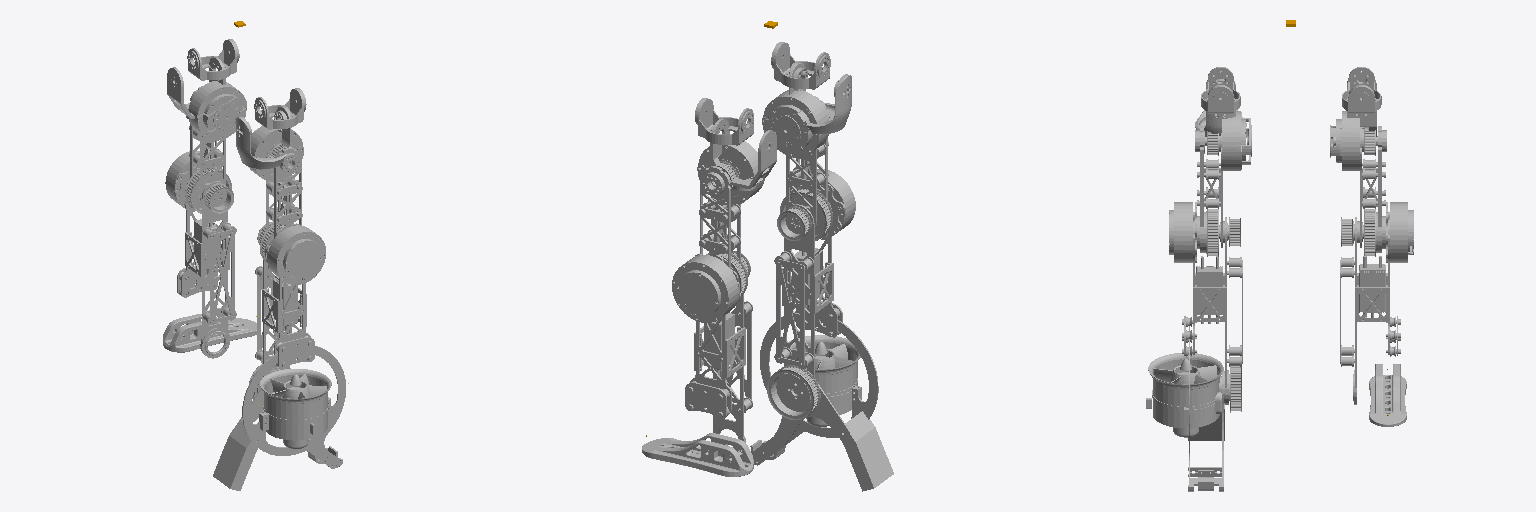
--- Facts derived from the render (not from the file) ---
3 views of the same robot in one strip: view 1: azimuth 30°, elevation 25°; view 2: azimuth 150°, elevation 25°; view 3: azimuth 270°, elevation 25° (orthographic).
Model legged_dm_description_no_arm with 17 links and 16 joints (10 revolute, 6 fixed), rooted at base_link, posed all joints at 0.
Links seen in each view (by area): view 1: leg_r5_link, leg_r4_link, leg_l4_link, leg_l3_link, leg_r3_link, leg_l5_link, leg_r2_link, leg_l1_link, leg_r1_link, leg_l2_link; view 2: leg_r5_link, leg_l4_link, leg_r4_link, leg_r3_link, leg_l3_link, leg_l5_link, leg_l1_link, leg_r1_link, leg_r2_link, leg_l2_link; view 3: leg_r5_link, leg_l4_link, leg_r4_link, leg_r3_link, leg_l3_link, leg_l5_link, leg_l1_link, leg_r1_link, leg_r2_link.
Boxes of the visible links, x1,y1,x2,y2 form: leg_r5_link: (213, 346, 345, 490); leg_r4_link: (255, 222, 325, 376); leg_l4_link: (165, 151, 236, 358); leg_l3_link: (175, 81, 246, 213); leg_r3_link: (249, 126, 303, 271); leg_l5_link: (163, 314, 256, 352); leg_r2_link: (236, 106, 290, 169); leg_l1_link: (187, 39, 239, 80); leg_r1_link: (254, 88, 306, 129); leg_l2_link: (167, 57, 225, 119); leg_r5_link: (750, 311, 893, 491); leg_l4_link: (672, 251, 752, 442); leg_r4_link: (774, 169, 855, 377); leg_r3_link: (762, 90, 844, 240); leg_l3_link: (695, 141, 764, 313); leg_l5_link: (642, 433, 753, 476); leg_l1_link: (695, 98, 753, 145); leg_r1_link: (771, 42, 830, 89); leg_r2_link: (789, 62, 851, 134); leg_l2_link: (710, 118, 776, 190); leg_r5_link: (1146, 326, 1241, 491); leg_l4_link: (1340, 202, 1413, 404); leg_r4_link: (1169, 202, 1242, 404); leg_r3_link: (1195, 111, 1251, 262); leg_l3_link: (1330, 111, 1387, 262); leg_l5_link: (1369, 364, 1406, 426); leg_l1_link: (1342, 67, 1381, 113); leg_r1_link: (1201, 67, 1240, 113); leg_r2_link: (1195, 71, 1246, 136).
Size in the robot's own frame: 0.2387 by 0.4257 by 0.7784 metres.
Meshes: 12 distinct files referenced, 10 mesh visuals loaded (10 binary STL); not drawn: 2 (reference not matched to a file when rendering).

The robot description file, URDF, robot "legged_dm_description_no_arm":
<?xml version="1.0" encoding="utf-8"?>
<!-- This URDF was automatically created by SolidWorks to URDF Exporter! Originally created by Stephen Brawner ([email redacted]) 
     Commit Version: 1.6.0-4-g7f85cfe  Build Version: 1.6.7995.38578
     For more information, please see http://wiki.ros.org/sw_urdf_exporter -->
<robot
  name="legged_dm_description_no_arm">
  
  
    <gazebo>
    <plugin name="gazebo_ros_control" filename="libdm_bipedal_hw_sim.so">
      <robotNamespace>/</robotNamespace>
      <robotParam>legged_robot_description</robotParam>
      <robotSimType>legged_gazebo/LeggedHWSim</robotSimType>
    </plugin>
  </gazebo>

  <gazebo>
    <plugin filename="libgazebo_ros_p3d.so" name="p3d_base_controller">
      <alwaysOn>true</alwaysOn>
      <updateRate>500.0</updateRate>
      <bodyName>base_link</bodyName>
      <topicName>ground_truth/state</topicName>
      <gaussianNoise>0</gaussianNoise>
      <frameName>world</frameName>
      <xyzOffsets>0 0 0</xyzOffsets>
      <rpyOffsets>0 0 0</rpyOffsets>
    </plugin>
  </gazebo>
  
  
     <joint name="imu_joint" type="fixed">
    <origin rpy="0. 0. 0." xyz="0. 0. 0"/>
    <parent link="base_link"/>
    <child link="imu_link"/>
  </joint>
  <!-- Imu link -->
  <link name="imu_link">
    <inertial>
      <mass value="0.01"/>
      <origin rpy="0 0 0" xyz="0 0 0"/>
      <inertia ixx="0.000001" ixy="0" ixz="0" iyy="0.000001" iyz="0" izz="0.000001"/>
    </inertial>
    <visual>
      <origin rpy="0 0 0" xyz="0 0 0"/>
      <geometry>
        <box size="0.015 0.015 0.004"/>
      </geometry>
    </visual>
    <material name="orange">
      <color rgba="255 108 10 255"/>
    </material>
  </link>
  <gazebo reference="imu_joint">
    <disableFixedJointLumping>true</disableFixedJointLumping>
  </gazebo>
  
  
  <link
    name="base_link">
    <inertial>
      <origin
        xyz="-0.0184065819818286 0.00877988976428151 0.0510806875972531"
        rpy="0 0 0" />
      <mass
        value="8.80159264 " />
      <inertia
        ixx="0.14775245"
        ixy="0.00171254"
        ixz="0.01822211"
        iyy="0.15431182"
        iyz="0.00278010"
        izz="0.18493669" />
    </inertial>
    <visual>
      <origin
        xyz="0 0 0"
        rpy="0 0 0" />
      <geometry>
        <mesh
          filename="package://legged_dm_description/meshes/base_link.STL" />
      </geometry>
      <material
        name="">
        <color
          rgba="0.752941176470588 0.752941176470588 0.752941176470588 1" />
      </material>
    </visual>
    <collision>
      <origin
        xyz="0.0045 0 0.0975"
        rpy="0 0 0" />
      <geometry>
        <box size="0.541 0.491 0.259" />
      </geometry>
    </collision>
  </link>
  
  
  <link
    name="loin_yaw_Link">
    <inertial>
      <origin
        xyz="-0.032699 -4.632E-05 -0.067781"
        rpy="0 0 0" />
      <mass
        value="1.65580951  " />
      <inertia
        ixx="0.01832622"
        ixy="0.00000010"
        ixz="0.00050635"
        iyy="0.00292395"
        iyz="-0.00000154"
        izz="0.01995461" />
    </inertial>
    <visual>
      <origin
        xyz="0 0 0"
        rpy="0 0 0" />
      <geometry>
        <mesh
          filename="package://legged_dm_description/meshes/loin_yaw_Link.STL" />
      </geometry>
      <material
        name="">
        <color
          rgba="0.75294 0.75294 0.75294 1" />
      </material>
    </visual>
    <collision>
      <origin
        xyz="-0.016403 0 -0.052"
        rpy="0 0 0" />
      <geometry>
        <box size="0.15375 0.304 0.104" />
      </geometry>
    </collision>
  </link>
  <joint
    name="loin_yaw_joint"
    type="fixed">
    <origin
      xyz="0.0047974 0.00016221 -0.032"
      rpy="0 0 0" />
    <parent
      link="base_link" />
    <child
      link="loin_yaw_Link" />
    <axis
      xyz="0 0 0" />
  </joint>
  
  
  <link
    name="leg_l1_link">
    <inertial>
      <origin
        xyz="0.0074236 3.4944E-14 -0.010847"
        rpy="0 0 0" />
      <mass
        value="0.08223546  " />
      <inertia
        ixx="0.00003751"
        ixy="0"
        ixz="0.00000662"
        iyy="0.00009398"
        iyz="0"
        izz="0.00009516" />
    </inertial>
    <visual>
      <origin
        xyz="0 0 0"
        rpy="0 0 0" />
      <geometry>
        <mesh
          filename="package://legged_dm_description/meshes/leg_l1_link.STL" />
      </geometry>
      <material
        name="">
        <color
          rgba="0.75294 0.75294 0.75294 1" />
      </material>
    </visual>
    <collision>
      <origin
        xyz="0 0 0"
        rpy="0 0 0" />
      <geometry>
        <box size="0.0001 0.0001 0.0001" />
      </geometry>
    </collision>
  </link>
  <joint
    name="leg_l1_joint"
    type="revolute">
    <origin
      xyz="0.0073473 0.112 -0.0755"
      rpy="0 0 0" />
    <parent
      link="loin_yaw_Link" />
    <child
      link="leg_l1_link" />
    <axis
      xyz="1 0 0" />
    <limit
      lower="-0.52"
      upper="0.785"
      effort="52"
      velocity="20" />
  </joint>
  
  
  <link
    name="leg_l2_link">
    <inertial>
      <origin
        xyz="5.2608E-05 0.036538 -0.048385"
        rpy="0 0 0" />
      <mass
        value="0.43655515  " />
      <inertia
        ixx="0.00059952"
        ixy="0.00000062"
        ixz="-0.00000010"
        iyy="0.00019349"
        iyz="-0.00014563"
        izz="0.00048350" />
    </inertial>
    <visual>
      <origin
        xyz="0 0 0"
        rpy="0 0 0" />
      <geometry>
        <mesh
          filename="package://legged_dm_description/meshes/leg_l2_link.STL" />
      </geometry>
      <material
        name="">
        <color
          rgba="0.75294 0.75294 0.75294 1" />
      </material>
    </visual>
    <collision>
      <origin
        xyz="0 0 0"
        rpy="0 0 0" />
      <geometry>
        <box size="0.0001 0.0001 0.0001" />
      </geometry>
    </collision>
  </link>
  <joint
    name="leg_l2_joint"
    type="revolute">
    <origin
      xyz="0 0 -0.03"
      rpy="0 0 0" />
    <parent
      link="leg_l1_link" />
    <child
      link="leg_l2_link" />
    <axis
      xyz="0 0 1" />
    <limit
      lower="-1.05"
      upper="1.05"
      effort="52"
      velocity="20" />
  </joint>
  
  
  <link
    name="leg_l3_link">
    <inertial>
      <origin
        xyz="2.6182999422638E-05 -0.00739138775448847 -0.0672622976762378"
        rpy="0 0 0" />
      <mass
        value="1.06377080  " />
      <inertia
        ixx="0.00585862"
        ixy="-0.00000112"
        ixz="0.00000759"
        iyy="0.00560481"
        iyz="-0.00121985"
        izz="0.00086513" />
    </inertial>
    <visual>
      <origin
        xyz="0 0 0"
        rpy="0 0 0" />
      <geometry>
        <mesh
          filename="package://legged_dm_description/meshes/leg_l3_link.STL" />
      </geometry>
      <material
        name="">
        <color
          rgba="0.752941176470588 0.752941176470588 0.752941176470588 1" />
      </material>
    </visual>
    <collision>
      <origin
        xyz="0 0 0"
        rpy="0 0 0" />
      <geometry>
        <box size="0.0001 0.0001 0.0001" />
      </geometry>
    </collision>
  </link>
  <joint
    name="leg_l3_joint"
    type="revolute">
    <origin
      xyz="0 0.01225 -0.062999"
      rpy="0 0 0" />
    <parent
      link="leg_l2_link" />
    <child
      link="leg_l3_link" />
    <axis
      xyz="0 1 0" />
    <limit
      lower="-0.52"
      upper="0.785"
      effort="52"
      velocity="20" />
  </joint>
  
  
  <link
    name="leg_l4_link">
    <inertial>
      <origin
        xyz="-0.00022241 0.013655 -0.079168"
        rpy="0 0 0" />
      <mass
        value="1.15073554  " />
      <inertia
        ixx="0.00837738"
        ixy="0.00000270"
        ixz="0.00000829"
        iyy="0.00759727"
        iyz="0.00134186"
        izz="0.00135982" />
    </inertial>
    <visual>
      <origin
        xyz="0 0 0"
        rpy="0 0 0" />
      <geometry>
        <mesh
          filename="package://legged_dm_description/meshes/leg_l4_link.STL" />
      </geometry>
      <material
        name="">
        <color
          rgba="0.75294 0.75294 0.75294 1" />
      </material>
    </visual>
    <collision>
      <origin 
	xyz="0 0.010775 -0.12575"
	rpy="0 0 0" />
      <geometry>
        <box size="0.096 0.11795 0.3475" />
      </geometry>
    </collision>
  </link>
  <joint
    name="leg_l4_joint"
    type="revolute">
    <origin
      xyz="0 0.001 -0.16"
      rpy="0 0 0" />
    <parent
      link="leg_l3_link" />
    <child
      link="leg_l4_link" />
    <axis
      xyz="0 1 0" />
    <limit
      lower="-0.3"
      upper="2.3562"
      effort="52"
      velocity="20" />
  </joint>
  
  
  <link
    name="leg_l5_link">
    <inertial>
      <origin
        xyz="-0.00349497624323486 -0.0226631671020062 -0.0399555274396122"
        rpy="0 0 0" />
      <mass
        value="0.94676044  " />
      <inertia
        ixx="0.00264085"
        ixy="0.00007192"
        ixz="0.00015760"
        iyy="0.00326986"
        iyz="0.00001047"
        izz="0.00252052" />
    </inertial>
    <visual>
      <origin
        xyz="0 0 0"
        rpy="0 0 0" />
      <geometry>
        <mesh
          filename="package://legged_dm_description/meshes/leg_l5_link.STL" />
      </geometry>
      <material
        name="">
        <color
          rgba="0.752941176470588 0.752941176470588 0.752941176470588 1" />
      </material>
    </visual>
     <collision>
      <origin
        xyz="-0.0122875 -0.026875 -0.0913"
        rpy="0 0 0" />
      <geometry>
        <box size="0.215425 0.05625 0.125" />
      </geometry>
    </collision>
  </link>
  <joint
    name="leg_l5_joint"
    type="revolute">
    <origin
      xyz="-0.0037585 0.03647 -0.26411"
      rpy="0 0 0" />
    <parent
      link="leg_l4_link" />
    <child
      link="leg_l5_link" />
    <axis
      xyz="0 1 0" />
    <limit
      lower="-1.047"
      upper="0.3"
      effort="52"
      velocity="20" />
  </joint>
  
  
  
  <joint name="leg_l5_fixed_1" type="fixed">
    <origin xyz="0.113 -0.008 -0.006" rpy="0 0 0" />
    <parent link="leg_l5_link" />
    <child link="leg_l_f1_link" />
  </joint>
  <link name="leg_l_f1_link">
    <inertial>
      <mass value="0.01" />
      <inertia ixx="0.000001" ixy="0" ixz="0" iyy="0.000001" iyz="0" izz="0.000001" />
    </inertial>
    <visual>
      <origin rpy="0 0 0" xyz="0 0 0"/>
      <geometry>
        <sphere radius="0.001"/>
      </geometry>
    </visual>
    <collision>
      <origin rpy="0 0 0" xyz="0 0 0"/>
      <geometry>
        <sphere radius="0.001"/>
      </geometry>
    </collision>
  </link>

  <joint name="leg_l5_fixed_2" type="fixed">
    <origin xyz="-0.061 -0.008 -0.006" rpy="0 0 0" />
    <parent link="leg_l5_link" />
    <child link="leg_l_f2_link" />
  </joint>
  <link name="leg_l_f2_link">
    <inertial>
      <mass value="0.01" />
      <inertia ixx="0.000001" ixy="0" ixz="0" iyy="0.000001" iyz="0" izz="0.000001" />
    </inertial>
    <visual>
      <origin rpy="0 0 0" xyz="0 0 0"/>
      <geometry>
        <sphere radius="0.001"/>
      </geometry>
    </visual>
    <collision>
      <origin rpy="0 0 0" xyz="-0 0 0"/>
      <geometry>
        <sphere radius="0.001"/>
      </geometry>
    </collision>
  </link>

   <gazebo reference="leg_l1_link">
    <mu1>0.6</mu1>
    <mu2>0.6</mu2>
    <self_collide>1</self_collide>
  </gazebo>
  <gazebo reference="leg_l2_link">
    <mu1>0.6</mu1>
    <mu2>0.6</mu2>
    <self_collide>1</self_collide>
  </gazebo>
  <gazebo reference="leg_l3_link">
    <mu1>0.6</mu1>
    <mu2>0.6</mu2>
    <self_collide>1</self_collide>
  </gazebo>
  <gazebo reference="leg_l4_link">
    <mu1>0.6</mu1>
    <mu2>0.6</mu2>
    <self_collide>1</self_collide>
  </gazebo>
  <gazebo reference="leg_l5_link">
    <mu1>0.7</mu1>
    <mu2>0.7</mu2>
    <self_collide>1</self_collide>
    <kp value="1000000.0"/>
    <kd value="100.0"/>
    <maxVel>1.0</maxVel>
    <minDepth>0.00</minDepth>
  </gazebo>
  <gazebo reference="leg_l_f1_link">
    <mu1>1.5</mu1>
    <mu2>1.5</mu2>
    <self_collide>1</self_collide>
    <kp value="1000000.0"/>
    <kd value="100.0"/>
    <maxVel>1.0</maxVel>
    <minDepth>0.00</minDepth>
  </gazebo>
  <gazebo reference="leg_l_f2_link">
    <mu1>1.5</mu1>
    <mu2>1.5</mu2>
    <self_collide>1</self_collide>
    <kp value="1000000.0"/>
    <kd value="100.0"/>
    <maxVel>1.0</maxVel>
    <minDepth>0.00</minDepth>
  </gazebo>

  <transmission name="leg_l1_tran">
    <type>transmission_interface/SimpleTransmission</type>
    <joint name="leg_l1_joint">
      <hardwareInterface>hardware_interface/EffortJointInterface</hardwareInterface>
    </joint>
    <actuator name="leg_l1_motor">
      <hardwareInterface>hardware_interface/EffortJointInterface</hardwareInterface>
      <mechanicalReduction>1</mechanicalReduction>
    <maxVelocity>1.484</maxVelocity><!-- 85rpm -->
	  <maxEffort>36.0</maxEffort><!-- 36Nm -->
    </actuator>
  </transmission>

  <transmission name="leg_l2_tran">
    <type>transmission_interface/SimpleTransmission</type>
    <joint name="leg_l2_joint">
      <hardwareInterface>hardware_interface/EffortJointInterface</hardwareInterface>
    </joint>
    <actuator name="leg_l2_motor">
      <hardwareInterface>hardware_interface/EffortJointInterface</hardwareInterface>
      <mechanicalReduction>1</mechanicalReduction>
    <maxVelocity>2.6545</maxVelocity><!-- 160rpm -->
	  <maxEffort>94.0</maxEffort><!-- 94Nm -->
    </actuator>
  </transmission>

  <transmission name="leg_l3_tran">
    <type>transmission_interface/SimpleTransmission</type>
    <joint name="leg_l3_joint">
      <hardwareInterface>hardware_interface/EffortJointInterface</hardwareInterface>
    </joint>
    <actuator name="leg_l3_motor">
      <hardwareInterface>hardware_interface/EffortJointInterface</hardwareInterface>
      <mechanicalReduction>1</mechanicalReduction>
    <maxVelocity>2.6545</maxVelocity><!-- 160rpm -->
	  <maxEffort>94.0</maxEffort><!-- 94Nm -->
    </actuator>
  </transmission>

  <transmission name="leg_l4_tran">
    <type>transmission_interface/SimpleTransmission</type>
    <joint name="leg_l4_joint">
      <hardwareInterface>hardware_interface/EffortJointInterface</hardwareInterface>
    </joint>
    <actuator name="leg_l4_motor">
      <hardwareInterface>hardware_interface/EffortJointInterface</hardwareInterface>
      <mechanicalReduction>1</mechanicalReduction>
    <maxVelocity>1.484</maxVelocity><!-- 85rpm -->
	<maxEffort>36.0</maxEffort><!-- 36Nm -->
    </actuator>
  </transmission>

  <transmission name="leg_l5_tran">
    <type>transmission_interface/SimpleTransmission</type>
    <joint name="leg_l5_joint">
      <hardwareInterface>hardware_interface/EffortJointInterface</hardwareInterface>
    </joint>
    <actuator name="leg_l5_motor">
      <hardwareInterface>hardware_interface/EffortJointInterface</hardwareInterface>
      <mechanicalReduction>1</mechanicalReduction>
    </actuator>
  </transmission>





  
  <link
    name="leg_r1_link">
    <inertial>
      <origin
        xyz="0.0074236325652069 6.80011602582908E-16 -0.0108468454554058"
        rpy="0 0 0" />
      <mass
        value="0.08223546   " />
      <inertia
        ixx="0.00003751"
        ixy="0"
        ixz="0.00000662"
        iyy="0.00009398"
        iyz="0"
        izz="0.00009516" />
    </inertial>
    <visual>
      <origin
        xyz="0 0 0"
        rpy="0 0 0" />
      <geometry>
        <mesh
          filename="package://legged_dm_description/meshes/leg_r1_link.STL" />
      </geometry>
      <material
        name="">
        <color
          rgba="0.752941176470588 0.752941176470588 0.752941176470588 1" />
      </material>
    </visual>
    <collision>
      <origin
        xyz="0 0 0"
        rpy="0 0 0" />
      <geometry>
        <box size="0.0001 0.0001 0.0001" />
      </geometry>
    </collision>
  </link>
  <joint
    name="leg_r1_joint"
    type="revolute">
    <origin
      xyz="0.0073473 -0.112 -0.0755"
      rpy="0 0 0" />
    <parent
      link="loin_yaw_Link" />
    <child
      link="leg_r1_link" />
    <axis
      xyz="1 0 0" />
    <limit
      lower="-0.785"
      upper="0.52"
      effort="52"
      velocity="20" />
  </joint>
  
  
  <link
    name="leg_r2_link">
    <inertial>
      <origin
        xyz="-5.26075349589691E-05 -0.036537929402166 -0.0483849611379578"
        rpy="0 0 0" />
      <mass
        value="0.43655515  " />
      <inertia
        ixx="0.00059952"
        ixy="0.00000062"
        ixz="0.00000010"
        iyy="0.00019349"
        iyz="0.00014563"
        izz="0.00048350" />
    </inertial>
    <visual>
      <origin
        xyz="0 0 0"
        rpy="0 0 0" />
      <geometry>
        <mesh
          filename="package://legged_dm_description/meshes/leg_r2_link.STL" />
      </geometry>
      <material
        name="">
        <color
          rgba="0.752941176470588 0.752941176470588 0.752941176470588 1" />
      </material>
    </visual>
    <collision>
      <origin
        xyz="0 0 0"
        rpy="0 0 0" />
      <geometry>
        <box size="0.0001 0.0001 0.0001" />
      </geometry>
    </collision>
  </link>
  <joint
    name="leg_r2_joint"
    type="revolute">
    <origin
      xyz="0 0 -0.03"
      rpy="0 0 0" />
    <parent
      link="leg_r1_link" />
    <child
      link="leg_r2_link" />
    <axis
      xyz="0 0 1" />
    <limit
      lower="-1.05"
      upper="1.05"
      effort="52"
      velocity="20" />
  </joint>
  
  
  <link
    name="leg_r3_link">
    <inertial>
      <origin
        xyz="-2.61829986850266E-05 0.00739138775572923 -0.0672622976741981"
        rpy="0 0 0" />
      <mass
        value="1.06377080  " />
      <inertia
        ixx="0.00585862"
        ixy="-0.00000112"
        ixz="-0.00000759"
        iyy="0.00560481"
        iyz="0.00121985"
        izz="0.00086513" />
    </inertial>
    <visual>
      <origin
        xyz="0 0 0"
        rpy="0 0 0" />
      <geometry>
        <mesh
          filename="package://legged_dm_description/meshes/leg_r3_link.STL" />
      </geometry>
      <material
        name="">
        <color
          rgba="0.752941176470588 0.752941176470588 0.752941176470588 1" />
      </material>
    </visual>
    <collision>
      <origin
        xyz="0 0 0"
        rpy="0 0 0" />
      <geometry>
        <box size="0.0001 0.0001 0.0001" />
      </geometry>
    </collision>
  </link>
  <joint
    name="leg_r3_joint"
    type="revolute">
    <origin
      xyz="0 -0.01225 -0.062999"
      rpy="0 0 0" />
    <parent
      link="leg_r2_link" />
    <child
      link="leg_r3_link" />
    <axis
      xyz="0 1 0" />
    <limit
      lower="-0.785"
      upper="0.52"
      effort="52"
      velocity="20" />
  </joint>
  
  
  <link
    name="leg_r4_link">
    <inertial>
      <origin
        xyz="0.000222411737605985 -0.0136554135665731 -0.0791679110236052"
        rpy="0 0 0" />
      <mass
        value="1.15073554  " />
      <inertia
        ixx="0.00837738"
        ixy="0.00000270"
        ixz="-0.00000829"
        iyy="0.00759727"
        iyz="-0.00134186"
        izz="0.00135982" />
    </inertial>
    <visual>
      <origin
        xyz="0 0 0"
        rpy="0 0 0" />
      <geometry>
        <mesh
          filename="package://legged_dm_description/meshes/leg_r4_link.STL" />
      </geometry>
      <material
        name="">
        <color
          rgba="0.752941176470588 0.752941176470588 0.752941176470588 1" />
      </material>
    </visual>
    <collision>
      <origin
	    xyz="0 -0.010775 -0.12575"
	    rpy="0 0 0" />
      <geometry>
        <box size="0.096 0.11795 0.3475" />
      </geometry>
    </collision>
  </link>
  <joint
    name="leg_r4_joint"
    type="revolute">
    <origin
      xyz="0 -0.001 -0.16"
      rpy="0 0 0" />
    <parent
      link="leg_r3_link" />
    <child
      link="leg_r4_link" />
    <axis
      xyz="0 1 0" />
    <limit
      lower="-0.3"
      upper="2.3562"
      effort="52"
      velocity="20" />
  </joint>
  
  
  <link
    name="leg_r5_link">
    <inertial>
      <origin
        xyz="-0.00347717419516151 0.0226631670917011 -0.0399254519866233"
        rpy="0 0 0" />
      <mass
        value="0.94676044  " />
      <inertia
        ixx="0.00263623"
        ixy="-0.00007177"
        ixz="0.00015829"
        iyy="0.00326742"
        iyz="-0.00001022"
        izz="0.00252270" />
    </inertial>
    <visual>
      <origin
        xyz="0 0 0"
        rpy="0 0 0" />
      <geometry>
        <mesh
          filename="package://legged_dm_description/meshes/leg_r5_link.STL" />
      </geometry>
      <material
        name="">
        <color
          rgba="0.752941176470588 0.752941176470588 0.752941176470588 1" />
      </material>
    </visual>
    <collision>
      <origin
        xyz="-0.0122875 0.026875 -0.0913"
        rpy="0 0 0" />
      <geometry>
        <box size="0.215425 0.05625 0.125" />
      </geometry>
    </collision>
  </link>
  <joint
    name="leg_r5_joint"
    type="revolute">
    <origin
      xyz="-0.0037585 -0.03647 -0.26411"
      rpy="0 0 0" />
    <parent
      link="leg_r4_link" />
    <child
      link="leg_r5_link" />
    <axis
      xyz="0 1 0" />
    <limit
      lower="-1.047"
      upper="0.3"
      effort="52"
      velocity="20" />
  </joint>
  
  
  <joint name="leg_r5_fixed_1" type="fixed">
    <origin xyz="0.113 0.008 -0.006" rpy="0 0 0" />
    <parent link="leg_r5_link" />
    <child link="leg_r_f1_link" />
  </joint>
  <link name="leg_r_f1_link">
    <inertial>
      <mass value="0.01" />
      <inertia ixx="0.000001" ixy="0" ixz="0" iyy="0.000001" iyz="0" izz="0.000001" />
    </inertial>
    <visual>
      <origin rpy="0 0 0" xyz="0 0 0"/>
      <geometry>
        <sphere radius="0.001"/>
      </geometry>
    </visual>
    <collision>
      <origin rpy="0 0 0" xyz="0 0 0"/>
      <geometry>
        <sphere radius="0.001"/>
      </geometry>
    </collision>
  </link>

  <joint name="leg_r5_fixed_2" type="fixed">
    <origin xyz="-0.061 0.008 -0.006" rpy="0 0 0" />
    <parent link="leg_r5_link" />
    <child link="leg_r_f2_link" />
  </joint>
  <link name="leg_r_f2_link">
    <inertial>
      <mass value="0.01" />
      <inertia ixx="0.000001" ixy="0" ixz="0" iyy="0.000001" iyz="0" izz="0.000001" />
    </inertial>
    <visual>
      <origin rpy="0 0 0" xyz="0 0 0"/>
      <geometry>
        <sphere radius="0.001"/>
      </geometry>
    </visual>
    <collision>
      <origin rpy="0 0 0" xyz="0 0 0"/>
      <geometry>
        <sphere radius="0.001"/>
      </geometry>
    </collision>
  </link>

  
  
    <gazebo reference="leg_r1_link">
    <mu1>0.6</mu1>
    <mu2>0.6</mu2>
    <self_collide>1</self_collide>
  </gazebo>
  <gazebo reference="leg_r2_link">
    <mu1>0.6</mu1>
    <mu2>0.6</mu2>
    <self_collide>1</self_collide>
  </gazebo>
  <gazebo reference="leg_r3_link">
    <mu1>0.6</mu1>
    <mu2>0.6</mu2>
    <self_collide>1</self_collide>
  </gazebo>
  <gazebo reference="leg_r4_link">
    <mu1>0.6</mu1>
    <mu2>0.6</mu2>
    <self_collide>1</self_collide>
  </gazebo>
  <gazebo reference="leg_r5_link">
    <mu1>0.7</mu1>
    <mu2>0.7</mu2>
    <self_collide>1</self_collide>
    <kp value="1000000.0"/>
    <kd value="100.0"/>
    <maxVel>1.0</maxVel>
    <minDepth>0.00</minDepth>
  </gazebo>
  <gazebo reference="leg_r_f1_link">
    <mu1>1.5</mu1>
    <mu2>1.5</mu2>
    <self_collide>1</self_collide>
    <kp value="1000000.0"/>
    <kd value="100.0"/>
    <maxVel>1.0</maxVel>
    <minDepth>0.00</minDepth>
  </gazebo>
  <gazebo reference="leg_r_f2_link">
    <mu1>1.5</mu1>
    <mu2>1.5</mu2>
    <self_collide>1</self_collide>
    <kp value="1000000.0"/>
    <kd value="100.0"/>
    <maxVel>1.0</maxVel>
    <minDepth>0.00</minDepth>
  </gazebo>

  <transmission name="leg_r1_tran">
    <type>transmission_interface/SimpleTransmission</type>
    <joint name="leg_r1_joint">
      <hardwareInterface>hardware_interface/EffortJointInterface</hardwareInterface>
    </joint>
    <actuator name="leg_r1_motor">
      <hardwareInterface>hardware_interface/EffortJointInterface</hardwareInterface>
      <mechanicalReduction>1</mechanicalReduction>
      	  <maxVelocity>1.484</maxVelocity><!-- 85rpm -->
	<maxEffort>36.0</maxEffort><!-- 36Nm -->
    </actuator>
  </transmission>

  <transmission name="leg_r2_tran">
    <type>transmission_interface/SimpleTransmission</type>
    <joint name="leg_r2_joint">
      <hardwareInterface>hardware_interface/EffortJointInterface</hardwareInterface>
    </joint>
    <actuator name="leg_r2_motor">
      <hardwareInterface>hardware_interface/EffortJointInterface</hardwareInterface>
      <mechanicalReduction>1</mechanicalReduction>
      	  <maxVelocity>2.6545</maxVelocity><!-- 160rpm -->
	  <maxEffort>94.0</maxEffort><!-- 94Nm -->
    </actuator>
  </transmission>

  <transmission name="leg_r3_tran">
    <type>transmission_interface/SimpleTransmission</type>
    <joint name="leg_r3_joint">
      <hardwareInterface>hardware_interface/EffortJointInterface</hardwareInterface>
    </joint>
    <actuator name="leg_r3_motor">
      <hardwareInterface>hardware_interface/EffortJointInterface</hardwareInterface>
      <mechanicalReduction>1</mechanicalReduction>
      	  <maxVelocity>2.6545</maxVelocity><!-- 160rpm -->
	  <maxEffort>94.0</maxEffort><!-- 94Nm -->
    </actuator>
  </transmission>

  <transmission name="leg_r4_tran">
    <type>transmission_interface/SimpleTransmission</type>
    <joint name="leg_r4_joint">
      <hardwareInterface>hardware_interface/EffortJointInterface</hardwareInterface>
    </joint>
    <actuator name="leg_r4_motor">
      <hardwareInterface>hardware_interface/EffortJointInterface</hardwareInterface>
      <mechanicalReduction>1</mechanicalReduction>
      	  <maxVelocity>1.484</maxVelocity><!-- 85rpm -->
	<maxEffort>36.0</maxEffort><!-- 36Nm -->
    </actuator>
  </transmission>

  <transmission name="leg_r5_tran">
    <type>transmission_interface/SimpleTransmission</type>
    <joint name="leg_r5_joint">
      <hardwareInterface>hardware_interface/EffortJointInterface</hardwareInterface>
    </joint>
    <actuator name="leg_r5_motor">
      <hardwareInterface>hardware_interface/EffortJointInterface</hardwareInterface>
      <mechanicalReduction>1</mechanicalReduction>
    </actuator>
  </transmission>
</robot>
